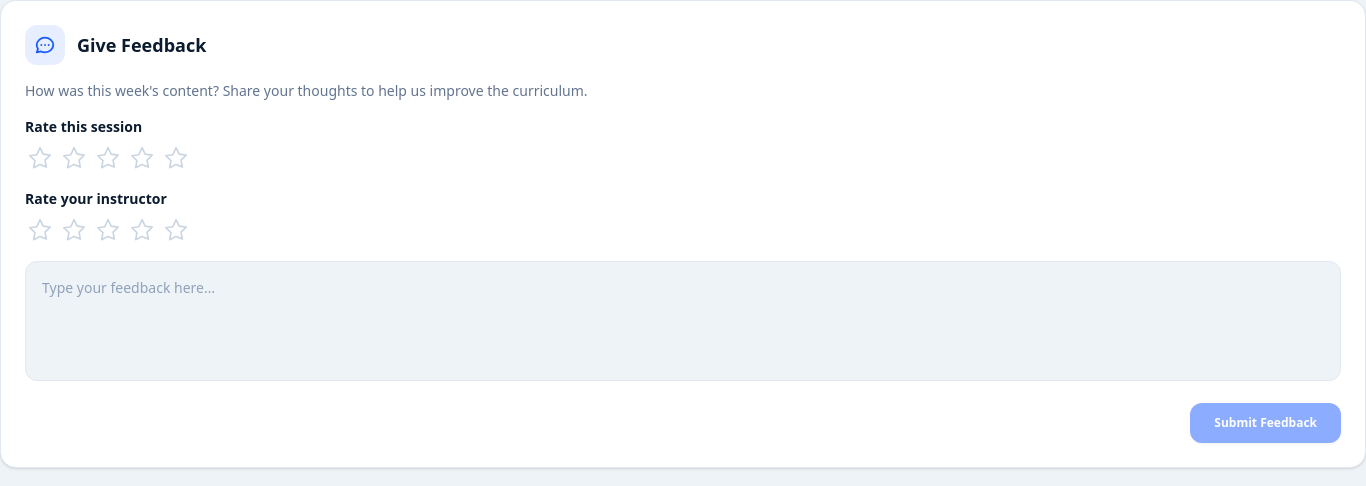
WeekFeedback (US5 — persisted) › keeps Submit disabled until a rating or comment is provided
This screenshot has width=1366, height=486.
Expected: the button "Submit Feedback" is disabled, [1190, 403, 1341, 443]
Click the radio button named "4 stars" below "Rate this session" at (142, 158), box [127, 143, 157, 173]
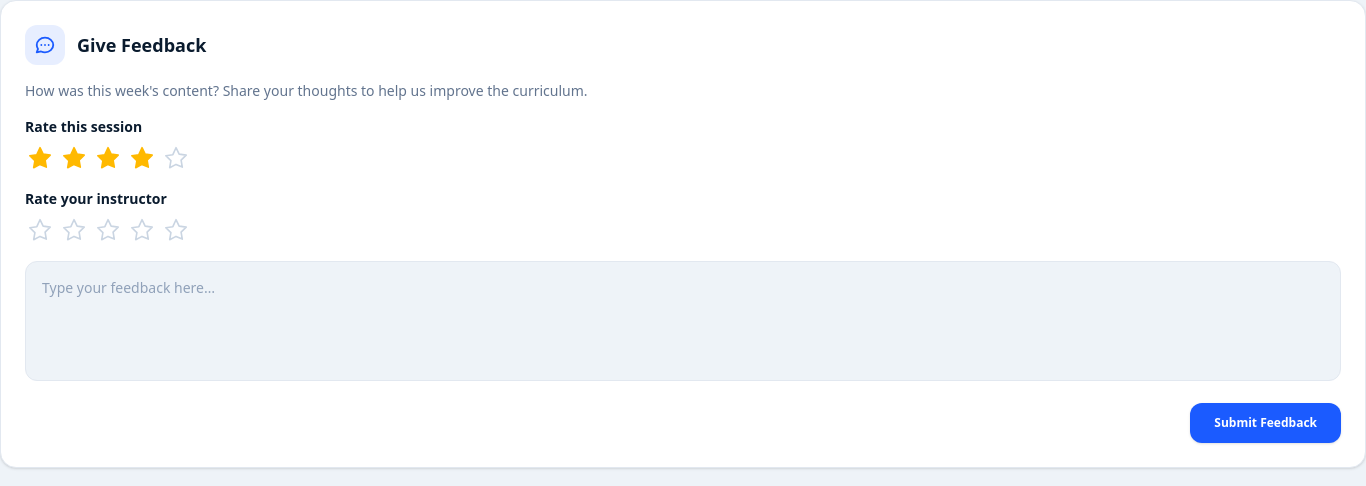
Expected: the button "Submit Feedback" is enabled, [1190, 403, 1341, 443]
